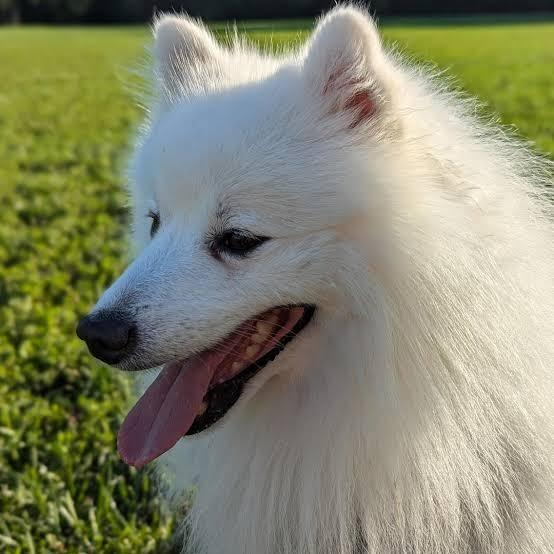adult_dog: (74, 3, 554, 554)
